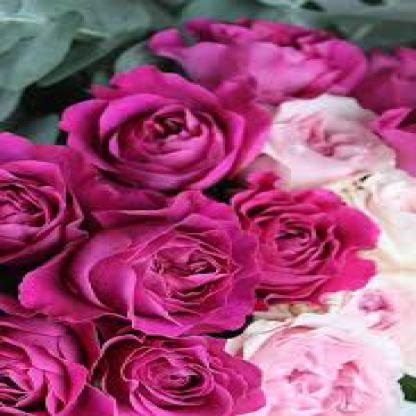Rose-Mawar: (71, 65, 415, 416), (1, 119, 99, 415), (149, 21, 415, 115)
